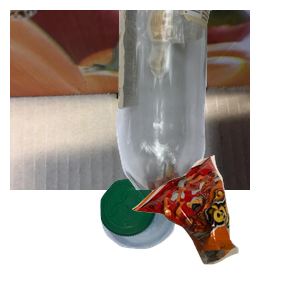cardboard: (10, 10, 250, 190)
glass: (113, 10, 300, 190)
plastic: (98, 176, 266, 300)
trash: (130, 153, 300, 300)
